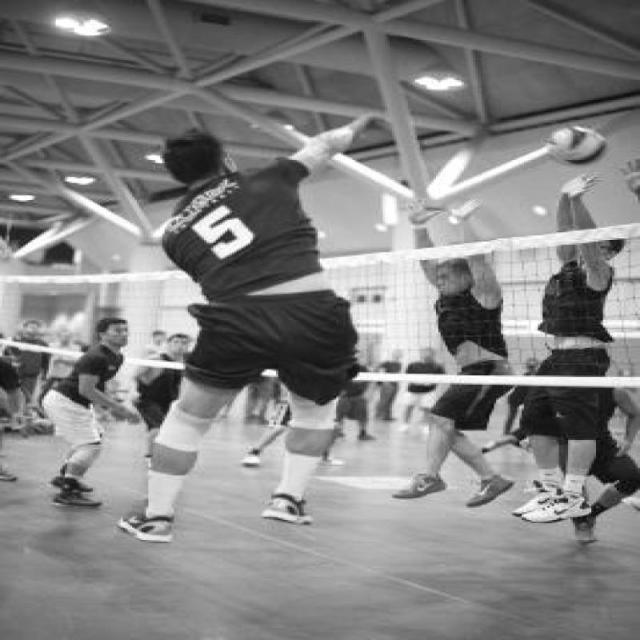volleyball: (540, 122, 610, 168)
